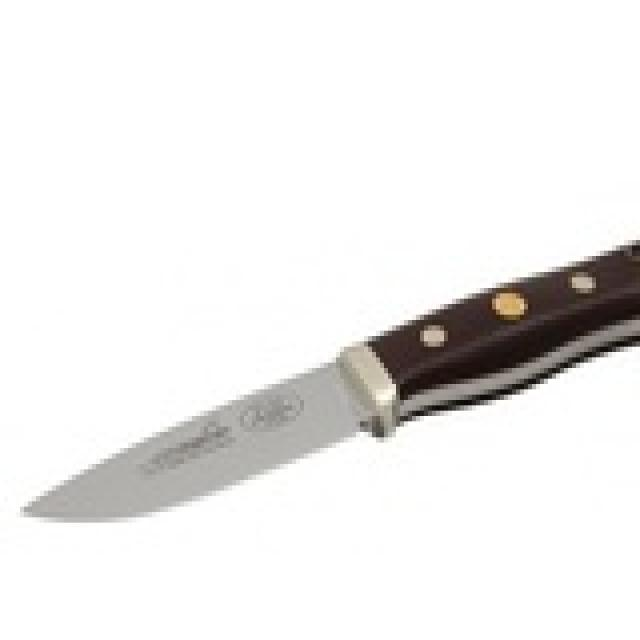Knife: (18, 239, 640, 569)
